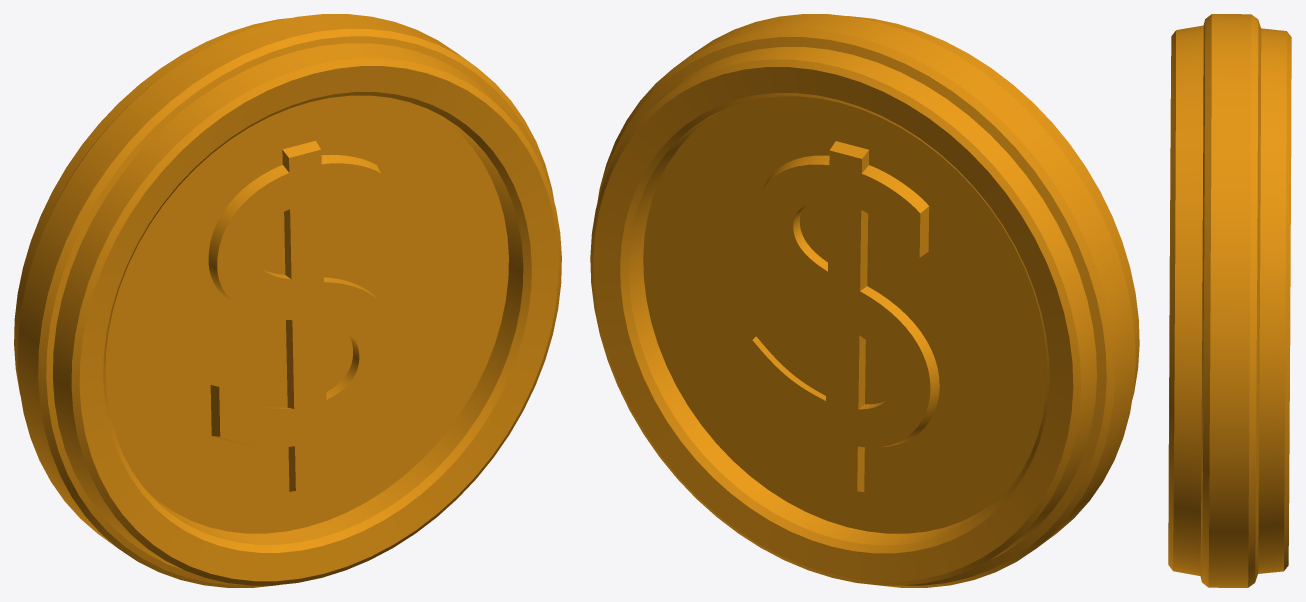
Rendered from Coin.fbx.
3 views of the same model, side by side, from view 1: azimuth 30°, elevation 25°; view 2: azimuth 150°, elevation 25°; view 3: azimuth 270°, elevation 25° (orthographic). The views are drawn at different scales.
Visible parts, largest first — view 1: Coin; view 2: Coin; view 3: Coin.
Boxes of the visible parts, <box> form: Coin: <box>14,14,561,587</box>; Coin: <box>590,14,1139,587</box>; Coin: <box>1168,14,1291,587</box>.
Bounding box in the file's own units: 198 × 198 × 42.45.
